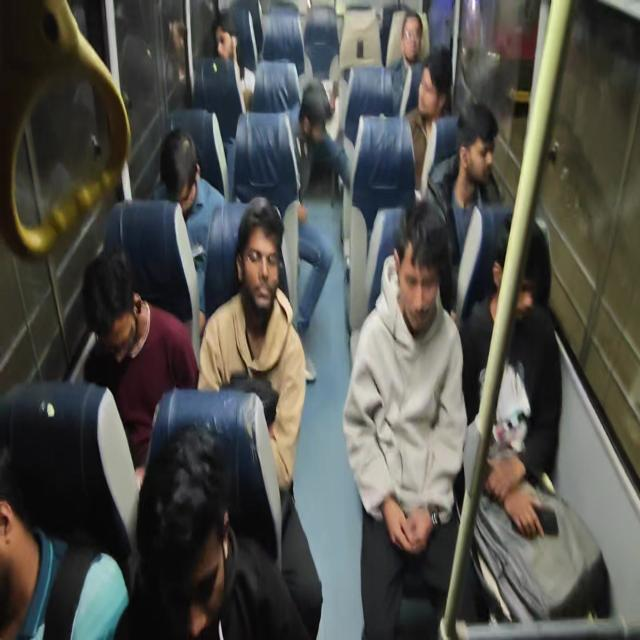person: (132, 432, 288, 640), (396, 202, 500, 392), (0, 443, 93, 640), (78, 246, 154, 407), (226, 206, 303, 344), (155, 113, 210, 248), (485, 231, 529, 330), (392, 8, 436, 86), (415, 60, 453, 132), (461, 99, 490, 189), (286, 82, 324, 137), (214, 9, 245, 66)
